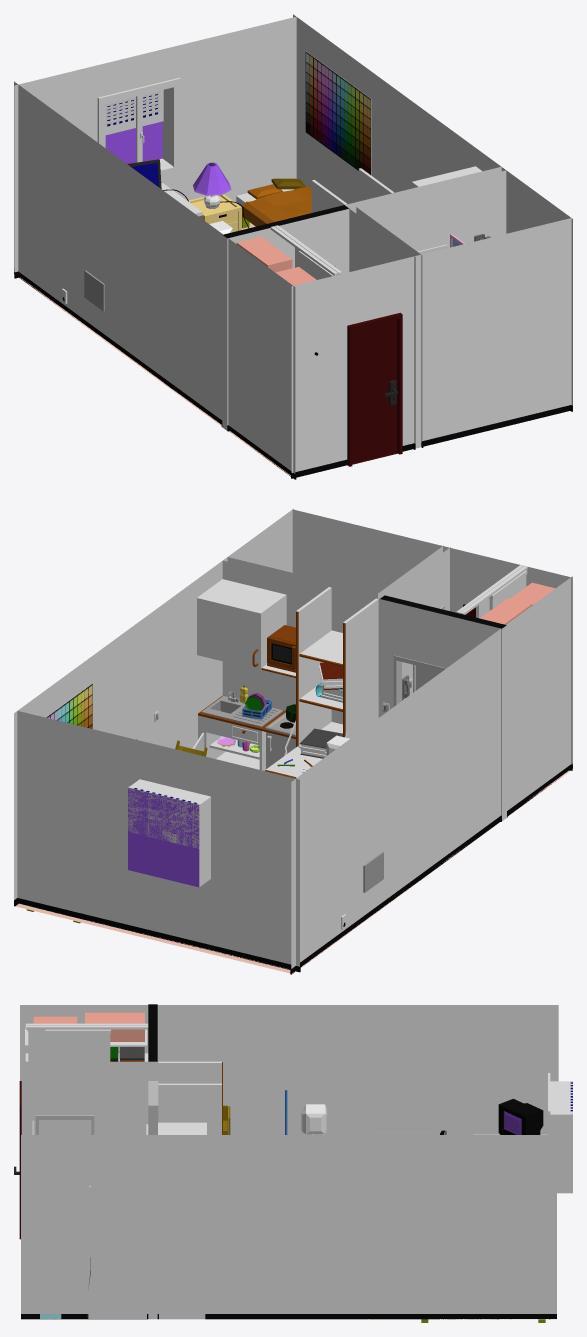
The model's file is room.glb.
3 renders of one model, top to bottom at view 1: azimuth 30°, elevation 25°; view 2: azimuth 150°, elevation 25°; view 3: azimuth 270°, elevation 25°, orthographic. The views are drawn at different scales.
Parts seen in each view (by area): view 1: murs_57, poster_40, lit_10, penderie_36, chevet_28, meuble fourni_14, sol_56, radiateur_18; view 2: murs_57, meuble fourni_14, meuble dessus evier_16, evier cuisiniere_12, penderie_36, sol_56, micro-onde_35, poster_40, cahiers 2_33, cahier 1_34, frigo_11, radiateur_18 (+1 smaller); view 3: murs_57, poster_40, penderie_36, meuble fourni_14, TV_15, bonhomme_9, meuble dessus evier_16, vetements_47.
Boxes of the visible parts, x1=… form: murs_57: x1=14, y1=14, x2=572, y2=479; poster_40: x1=305, y1=51, x2=371, y2=174; lit_10: x1=236, y1=178, x2=311, y2=228; penderie_36: x1=236, y1=225, x2=341, y2=355; chevet_28: x1=188, y1=162, x2=241, y2=231; meuble fourni_14: x1=311, y1=168, x2=394, y2=212; sol_56: x1=19, y1=222, x2=290, y2=476; radiateur_18: x1=84, y1=270, x2=104, y2=311; murs_57: x1=14, y1=508, x2=572, y2=974; meuble fourni_14: x1=265, y1=587, x2=378, y2=778; meuble dessus evier_16: x1=197, y1=579, x2=295, y2=677; evier cuisiniere_12: x1=192, y1=691, x2=295, y2=770; penderie_36: x1=456, y1=565, x2=555, y2=624; sol_56: x1=15, y1=770, x2=569, y2=973; micro-onde_35: x1=267, y1=625, x2=295, y2=672; poster_40: x1=46, y1=683, x2=92, y2=728; cahiers 2_33: x1=315, y1=662, x2=342, y2=702; cahier 1_34: x1=299, y1=728, x2=342, y2=758; frigo_11: x1=266, y1=732, x2=295, y2=768; radiateur_18: x1=363, y1=852, x2=383, y2=892; murs_57: x1=14, y1=1004, x2=572, y2=1319; poster_40: x1=407, y1=1161, x2=532, y2=1238; penderie_36: x1=25, y1=1012, x2=148, y2=1134; meuble fourni_14: x1=158, y1=1061, x2=222, y2=1134; TV_15: x1=498, y1=1098, x2=543, y2=1134; bonhomme_9: x1=301, y1=1104, x2=326, y2=1134; meuble dessus evier_16: x1=158, y1=1122, x2=206, y2=1134; vetements_47: x1=110, y1=1047, x2=144, y2=1061.
Bounding box in the file's own units: 4.16 × 2.81 × 7.41.
Materials: 4 (2 with a texture image).
